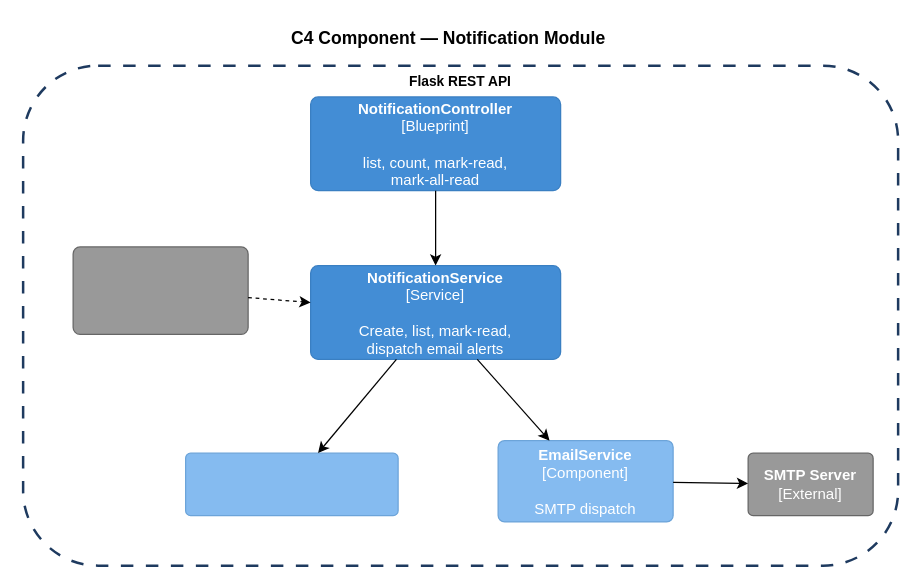
Image size: 920x588. Some labels were removed from this diagram. Here are the shapes that lost their labels. From the top down, the box of each, then its label:
(72, 246, 248, 334): Other Services [LoanService, PaymentService] Trigger notifications
(184, 452, 398, 516): NotificationRepository [Repository]
